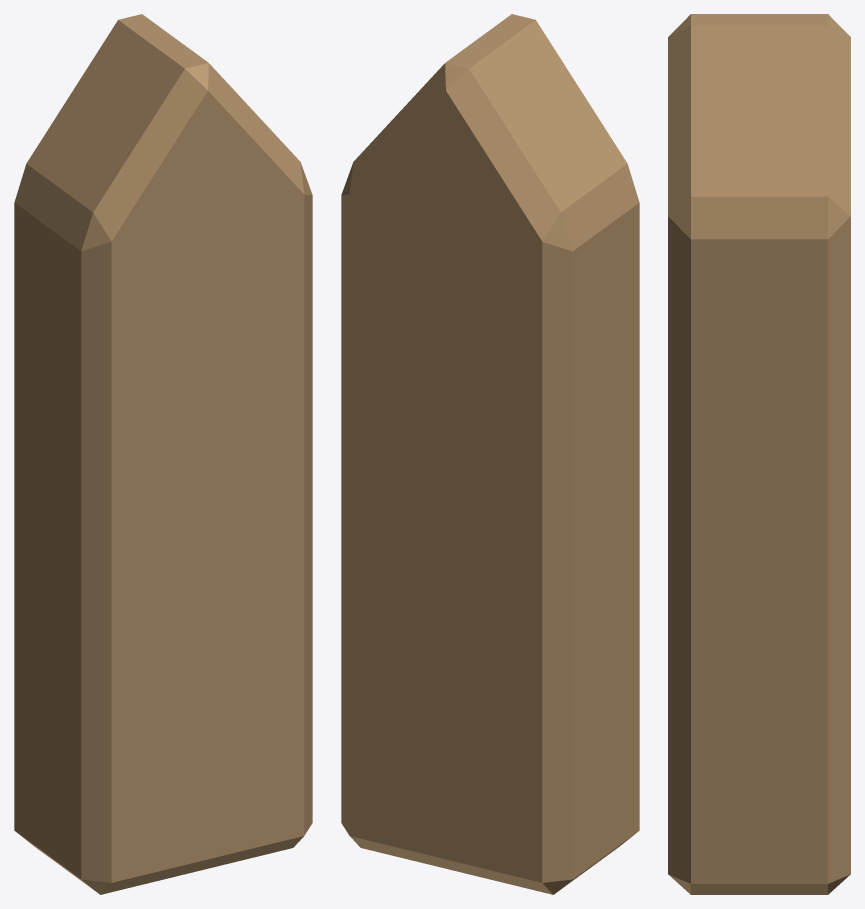
File: Post.fbx
3 views of the same model, side by side, from view 1: azimuth 30°, elevation 25°; view 2: azimuth 150°, elevation 25°; view 3: azimuth 270°, elevation 25° (orthographic). The views are drawn at different scales.
Parts seen in each view (by area): view 1: Post; view 2: Post; view 3: Post.
Part boxes in pixels (box(x1,y1,x2,y2)): Post: box(14, 14, 312, 894); Post: box(341, 14, 639, 894); Post: box(668, 14, 850, 894).
Size of the model in its own units: 120 by 399 by 80.
